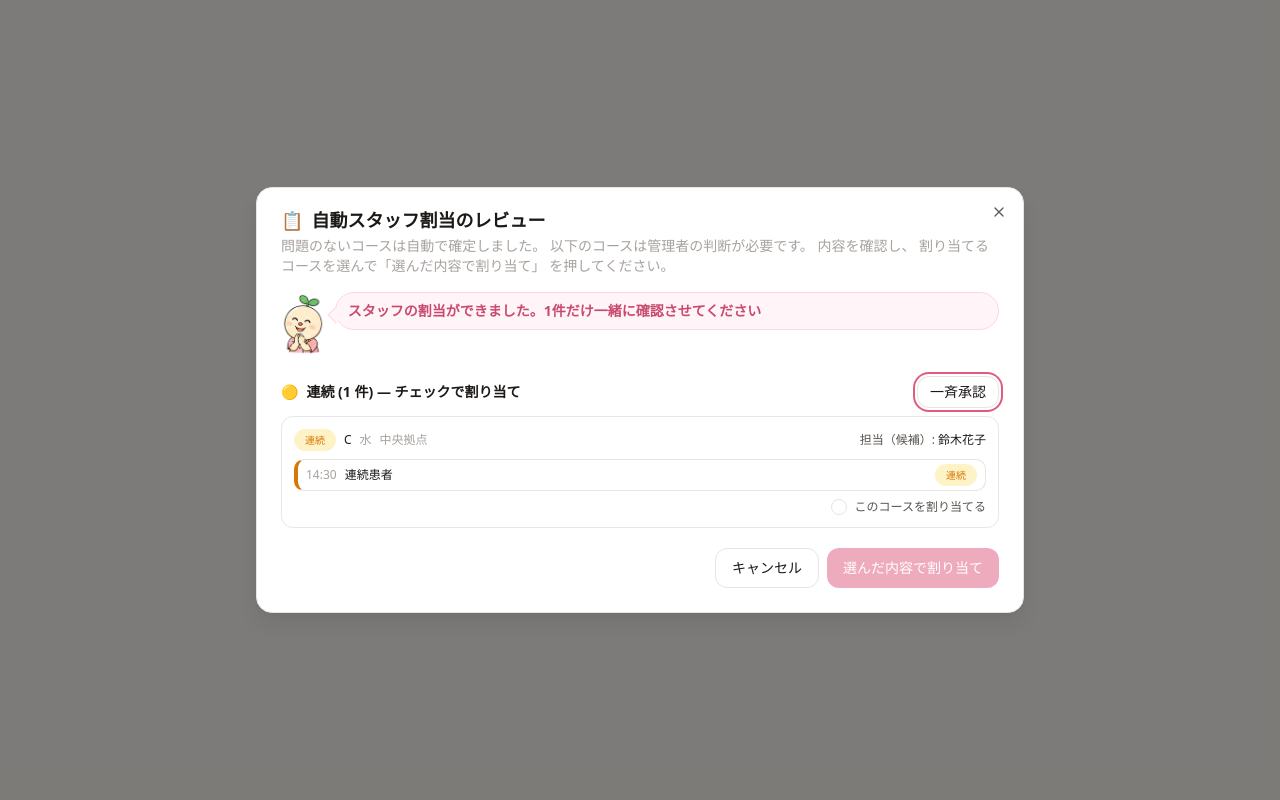
Test: AssignWarningDialog (Phase G-91 review flow) › 全件承認済みのとき一斉承認ボタンはトグルで全件解除する
Click the button with test id "assign-review-consecutive-approve-all".
click(958, 392)  # box [917,376,999,408]
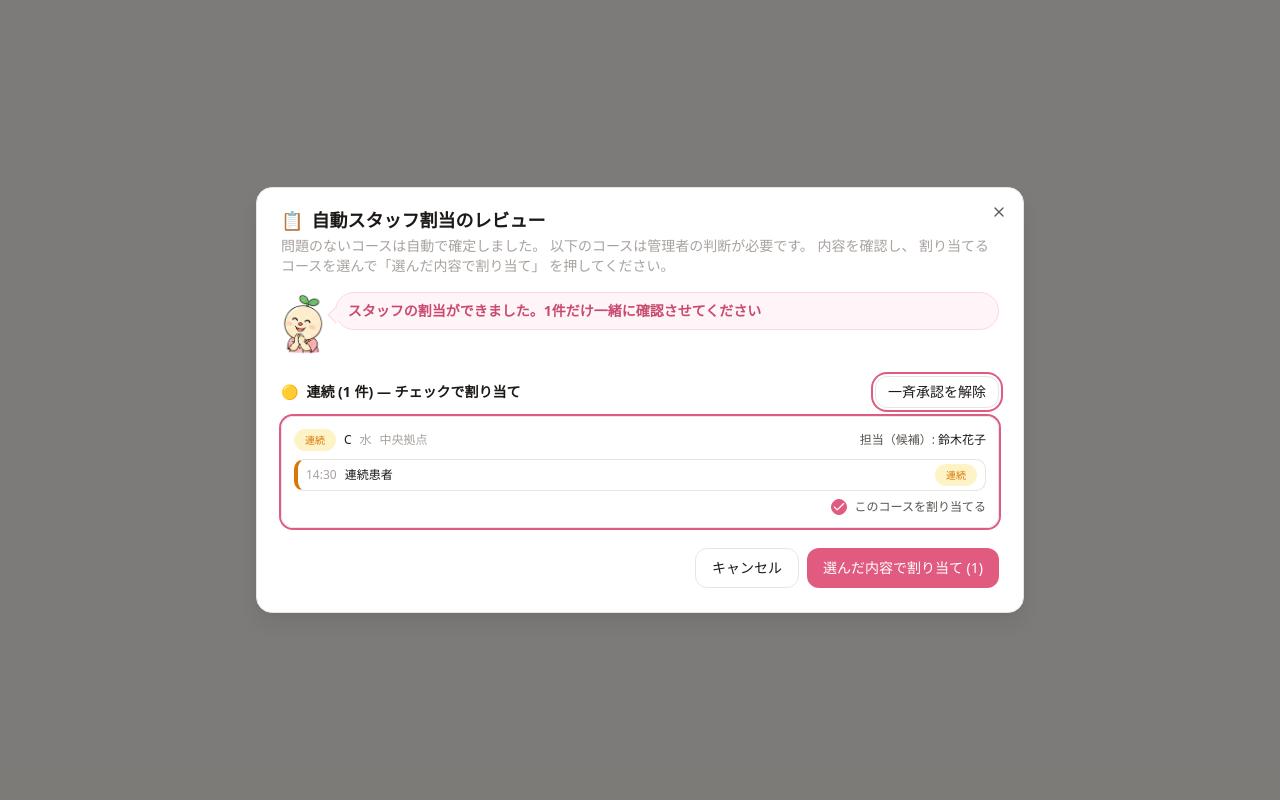
Now the button with test id "assign-review-consecutive-approve-all" reads "一斉承認を解除"
Click the button with test id "assign-review-consecutive-approve-all".
click(937, 392)  # box [875,376,999,408]
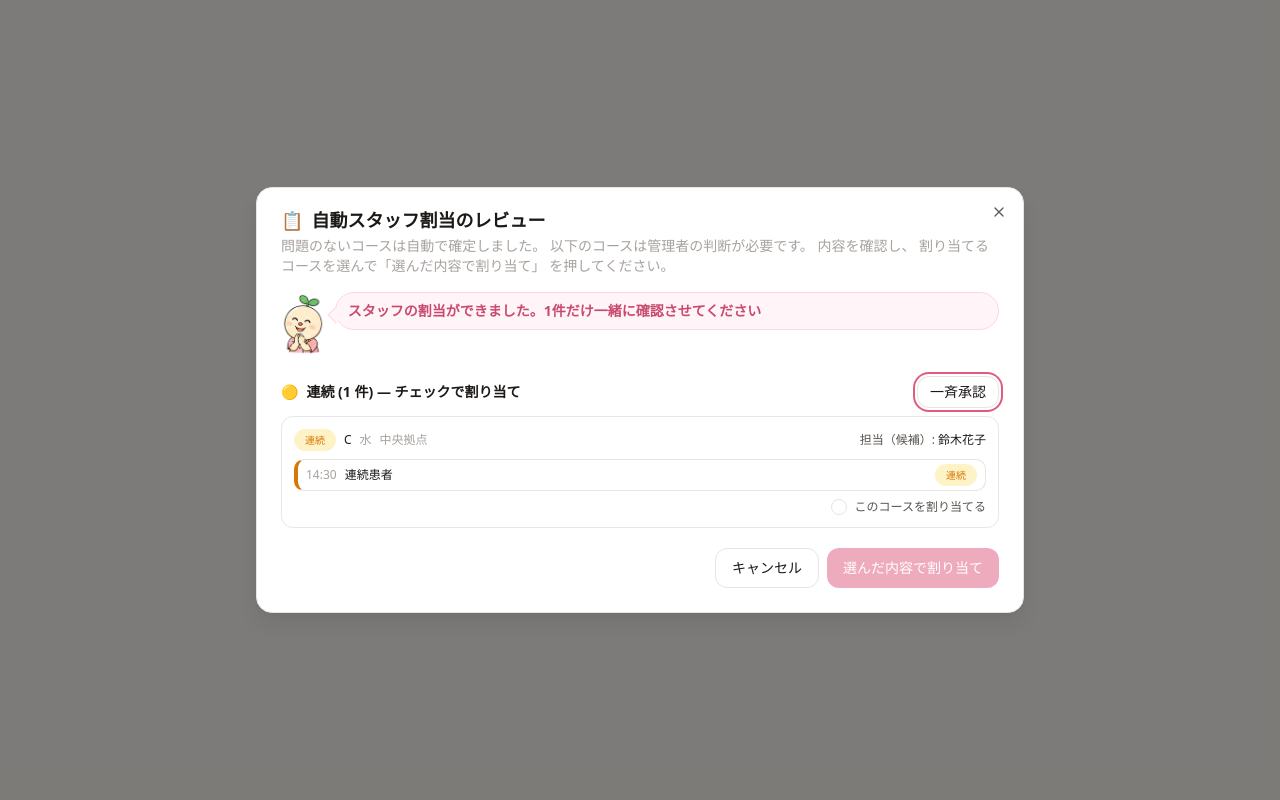
Now the button with test id "assign-review-apply" is disabled, box [827,548,999,588]
